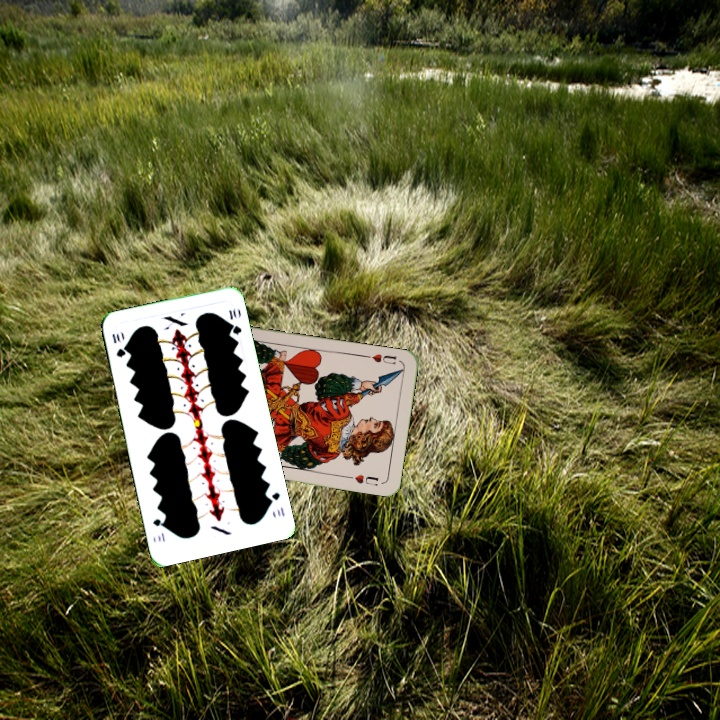G10: (264, 488, 287, 520), (108, 330, 128, 360)
HU: (362, 350, 399, 367)
